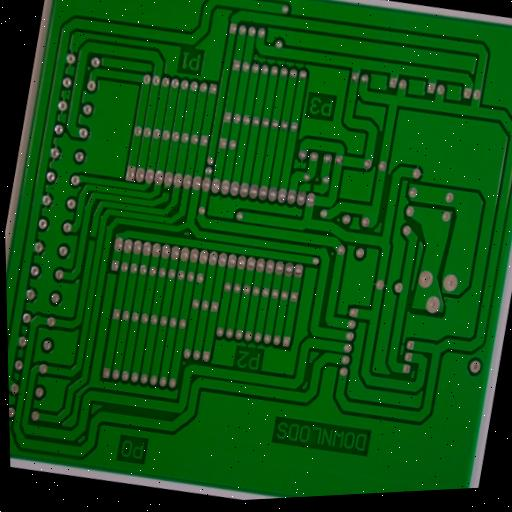open_circuit: (306, 180, 318, 194), (87, 231, 98, 245), (161, 185, 172, 196)
